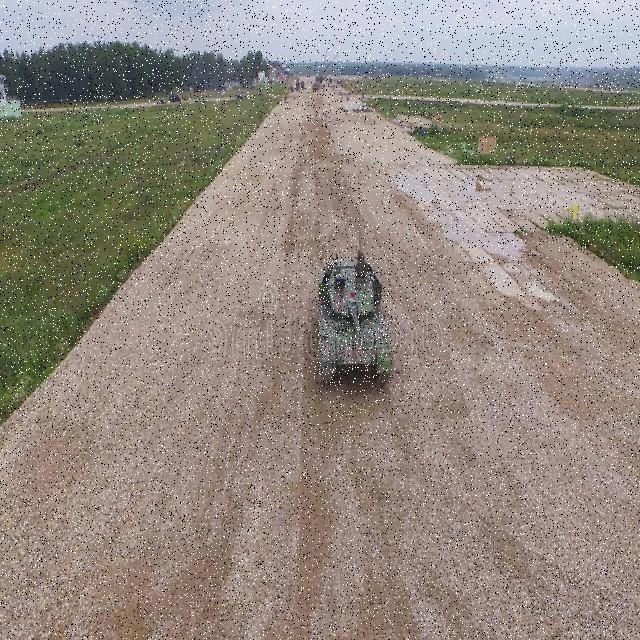MIL_MBT: (318, 257, 392, 384)
